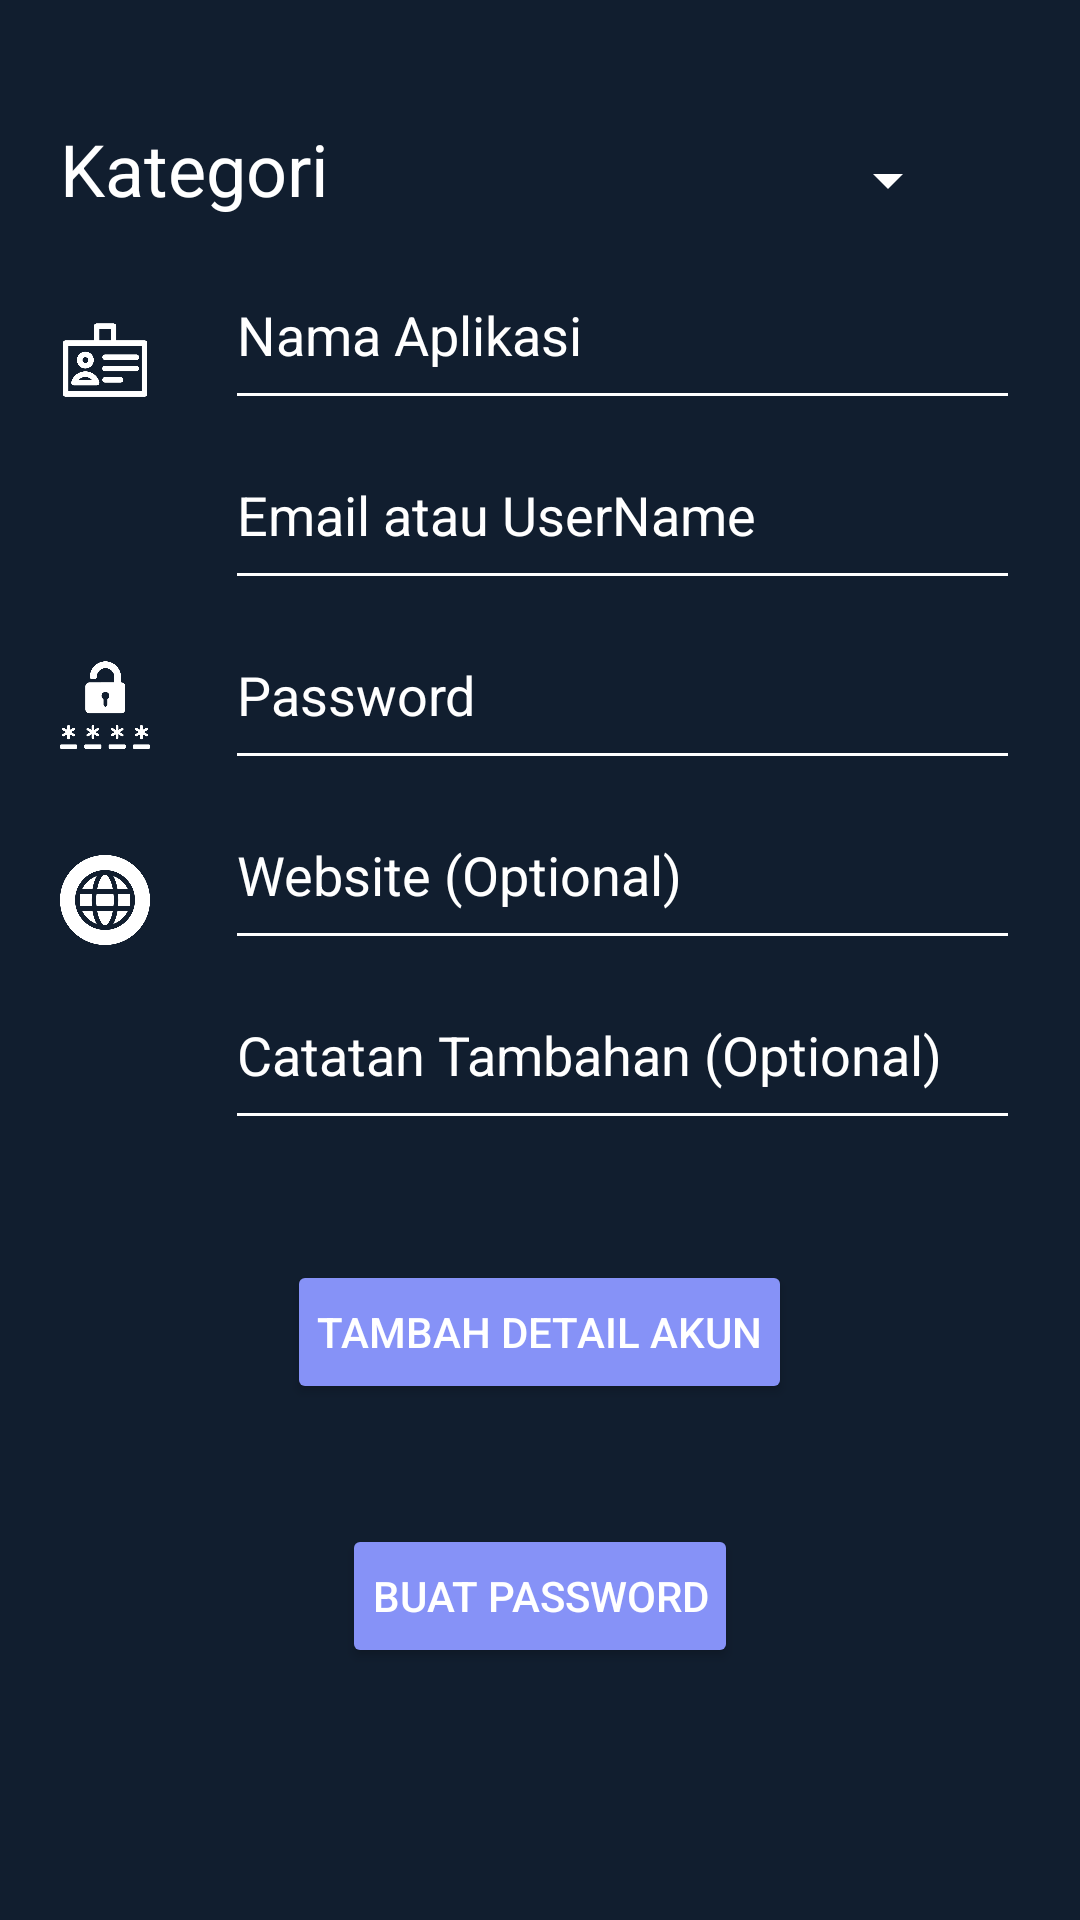

Named icons in this screenshot (1080px x 1920px) and their centers, (x,y):
name tag: (105,360)
web: (105,900)
